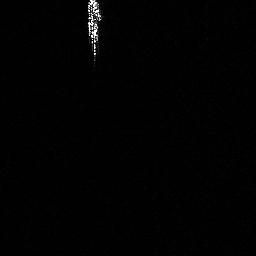ship: (85, 1, 105, 62)
